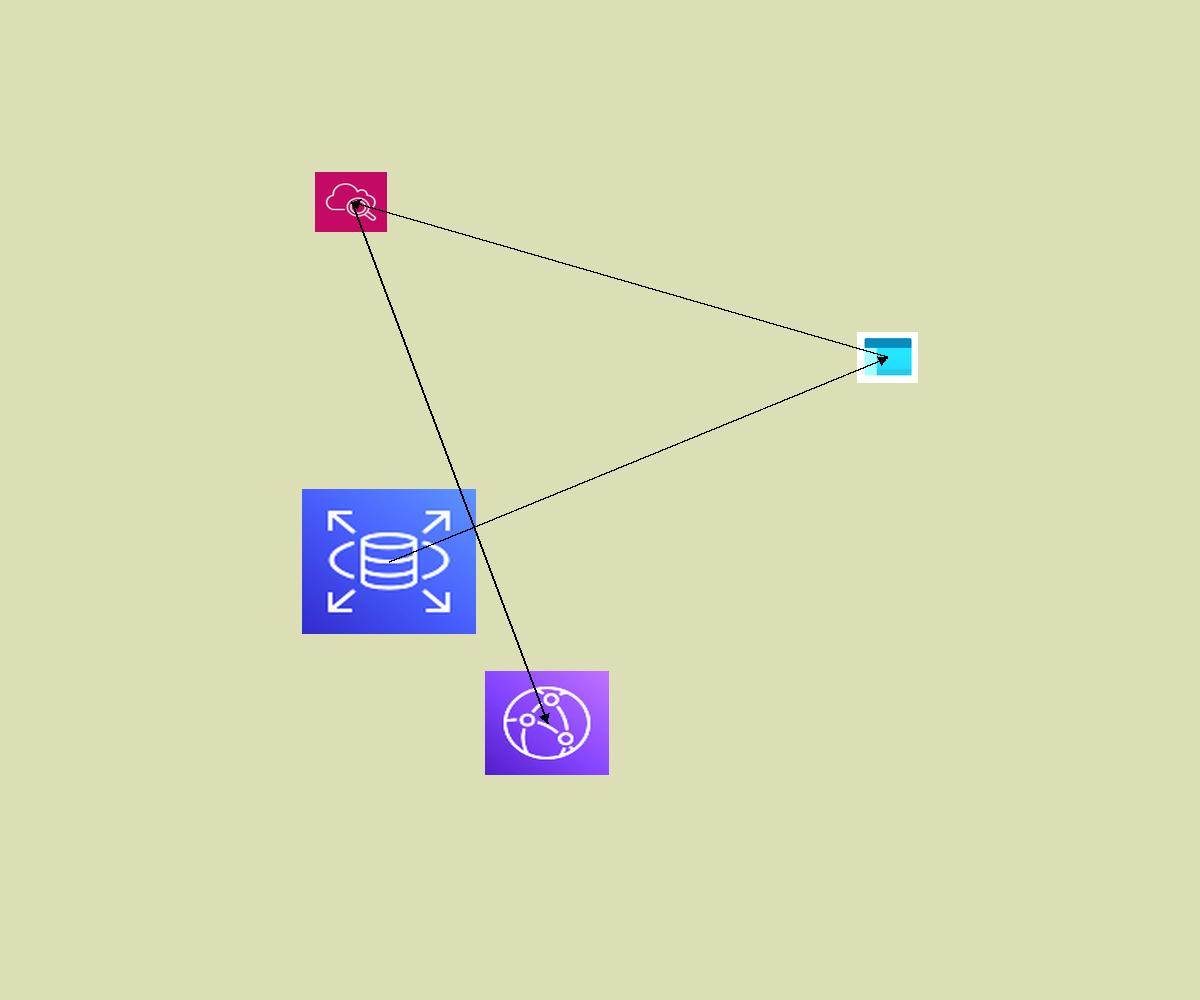AWS-CloudFront: (485, 671, 609, 775)
AWS-CloudWatch: (315, 172, 387, 232)
AWS-RDS: (302, 489, 476, 634)
Azure_management-portal: (857, 332, 918, 383)
